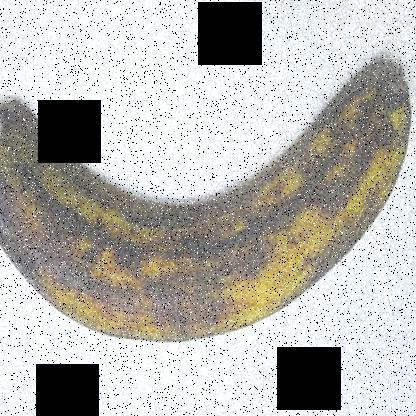overripe: (0, 34, 415, 358)
